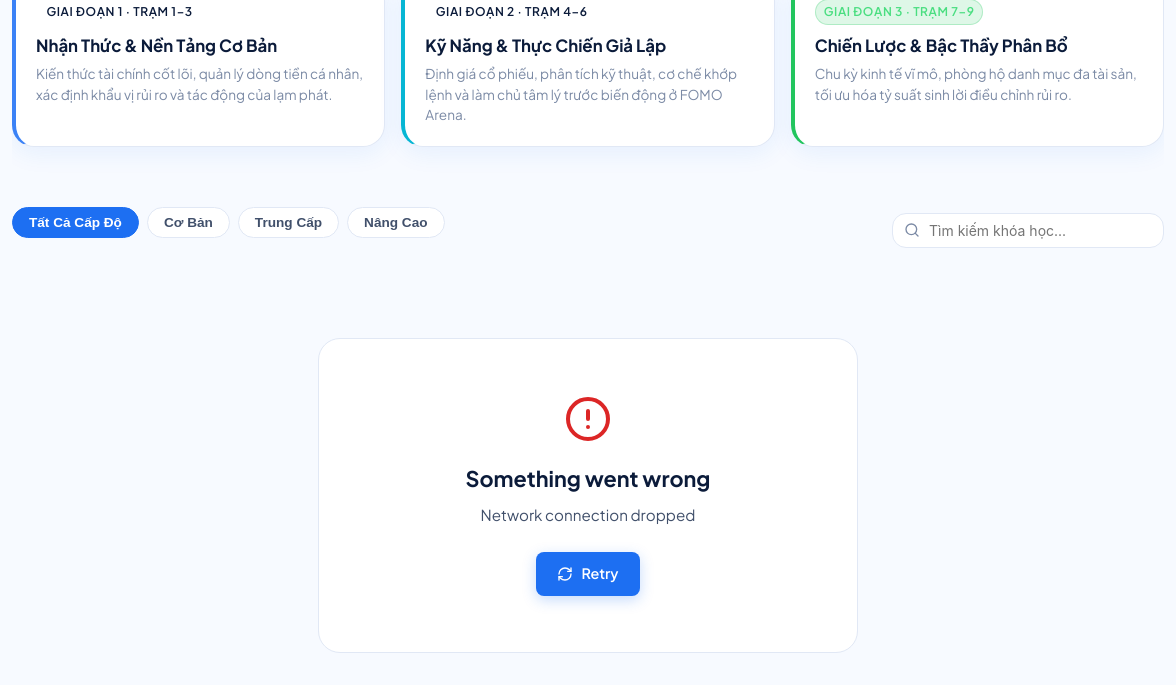
Scenario: CourseCatalogPage (Component & State - AC-003, AC-004, AC-013, AC-014, AC-015) › renders accessible error state and handles retry
This screenshot has width=1176, height=685.
(page scrolled)
Check: the message "Something went wrong Network connection dropped Retry" is shown, box [318,338,858,653]
Check: the text "Network connection dropped" is shown, box [481,503,695,528]
Click the button "Retry": x=588, y=574 [536,552,640,596]
(page scrolled)
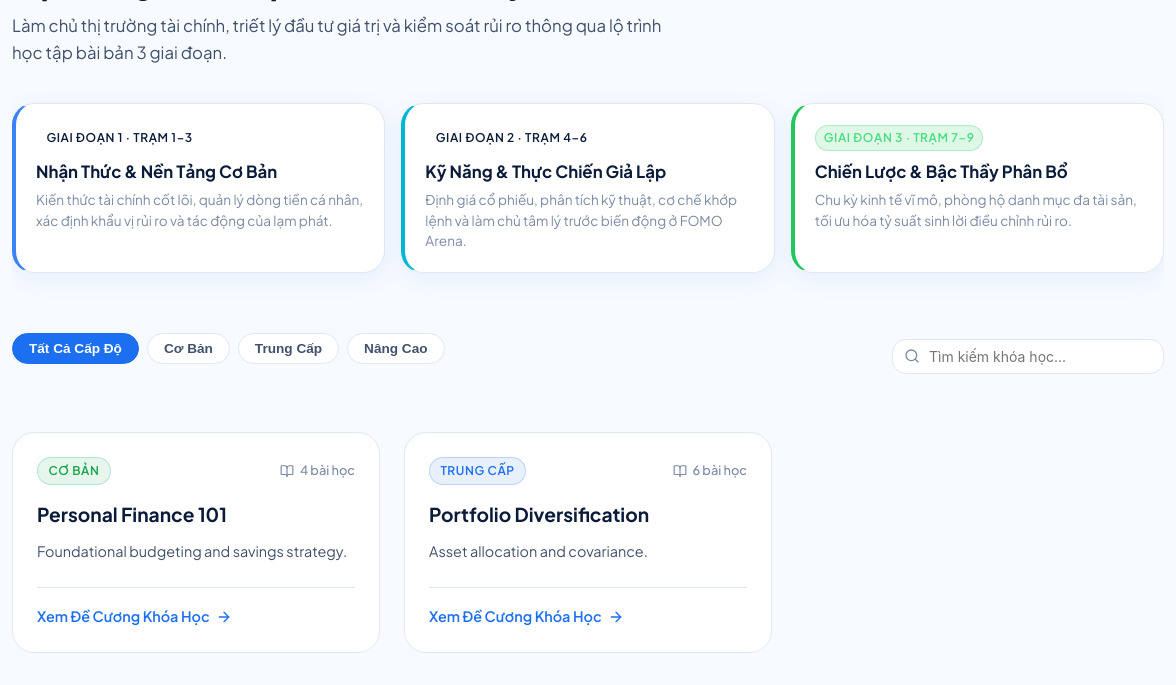
Check: the heading "Personal Finance 101" is shown, box [37,502,227,526]
